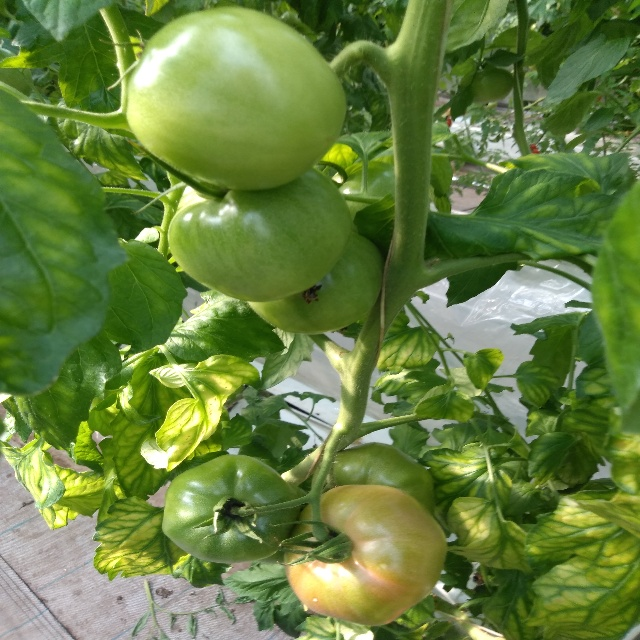b_green: (125, 5, 348, 192), (167, 167, 351, 304), (162, 454, 299, 564), (246, 231, 384, 335), (312, 442, 435, 519), (330, 160, 394, 233)
b_half_ripened: (282, 485, 448, 626)
